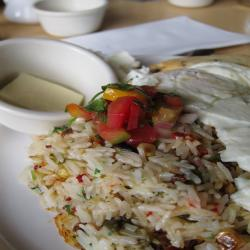rice: (29, 106, 250, 247)
